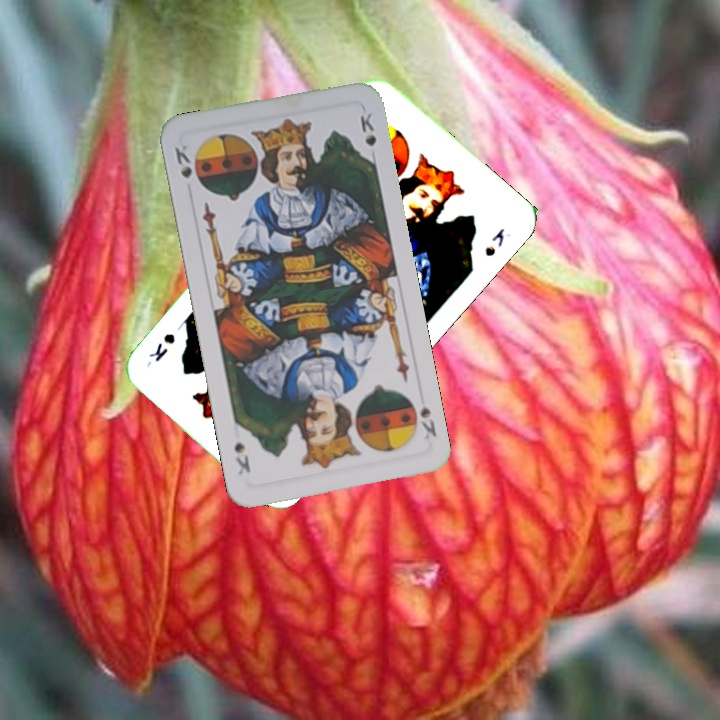SK: (170, 140, 195, 181), (416, 402, 440, 442)
